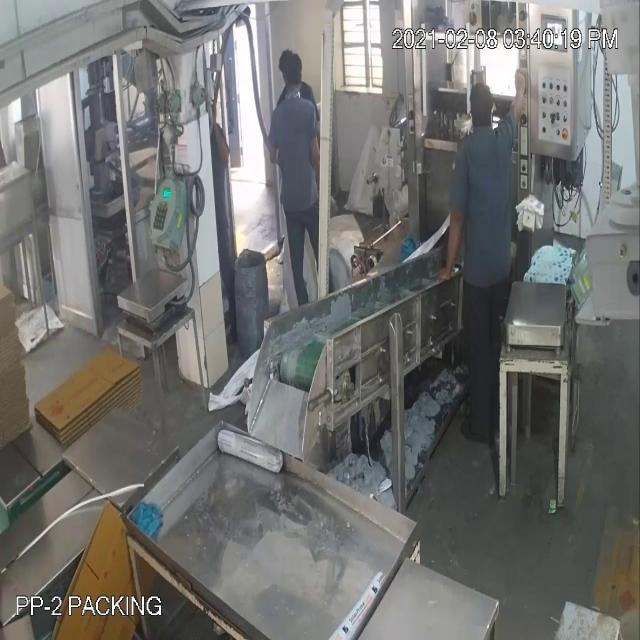No_Gloves: (30, 70, 519, 238)
